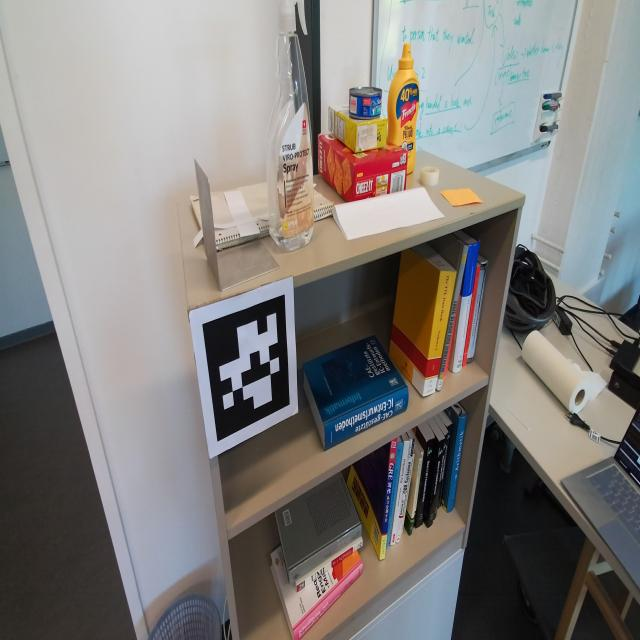Book Spine: (323, 387, 409, 452), (293, 561, 363, 640), (437, 245, 469, 391), (288, 524, 362, 585), (423, 271, 457, 397), (452, 240, 480, 373), (297, 539, 363, 592), (379, 437, 398, 561), (395, 438, 415, 543), (390, 441, 410, 546), (447, 413, 467, 513), (462, 265, 481, 367), (386, 440, 403, 548), (467, 266, 485, 363), (416, 439, 435, 528), (471, 264, 488, 362), (427, 439, 445, 528), (433, 432, 449, 521), (437, 423, 453, 509), (444, 291, 460, 376), (401, 453, 415, 534), (409, 457, 423, 536), (412, 451, 424, 529)
